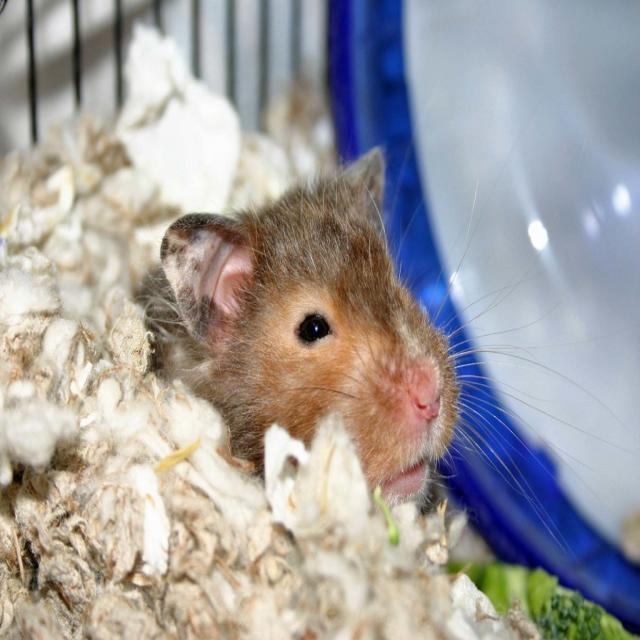rat: (135, 147, 467, 502)
